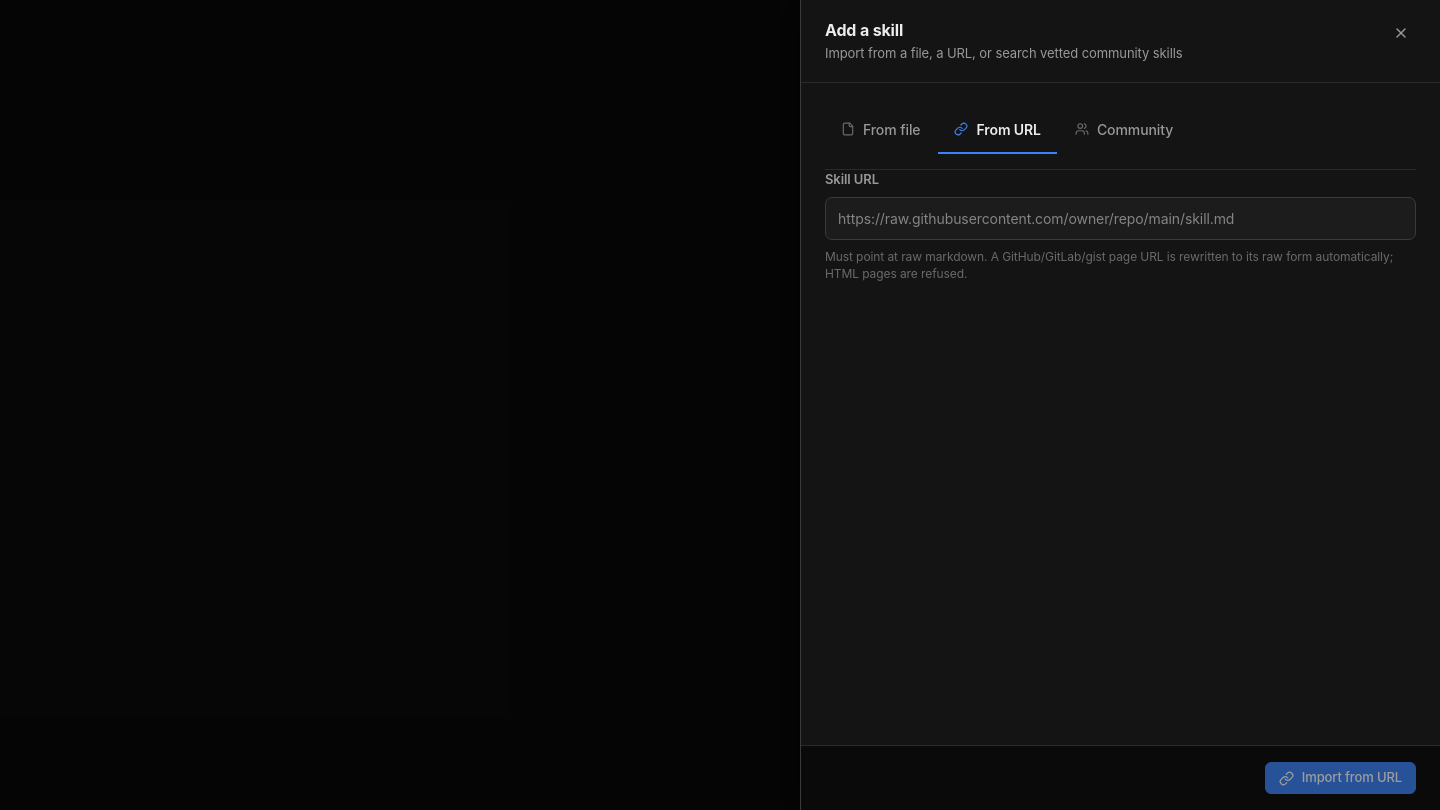
Test: AddSkillDrawer (smoke) › shows the advisory risk panel when the preview carries warnings
Type "https://example.com/skills/security.md" into the field with placeholder "https://raw.githubusercontent.com/owner/repo/main/skill.md".
click(1120, 218); type("https://example.com/skills/security.md")  # box x1=838 y1=208 x2=1403 y2=229
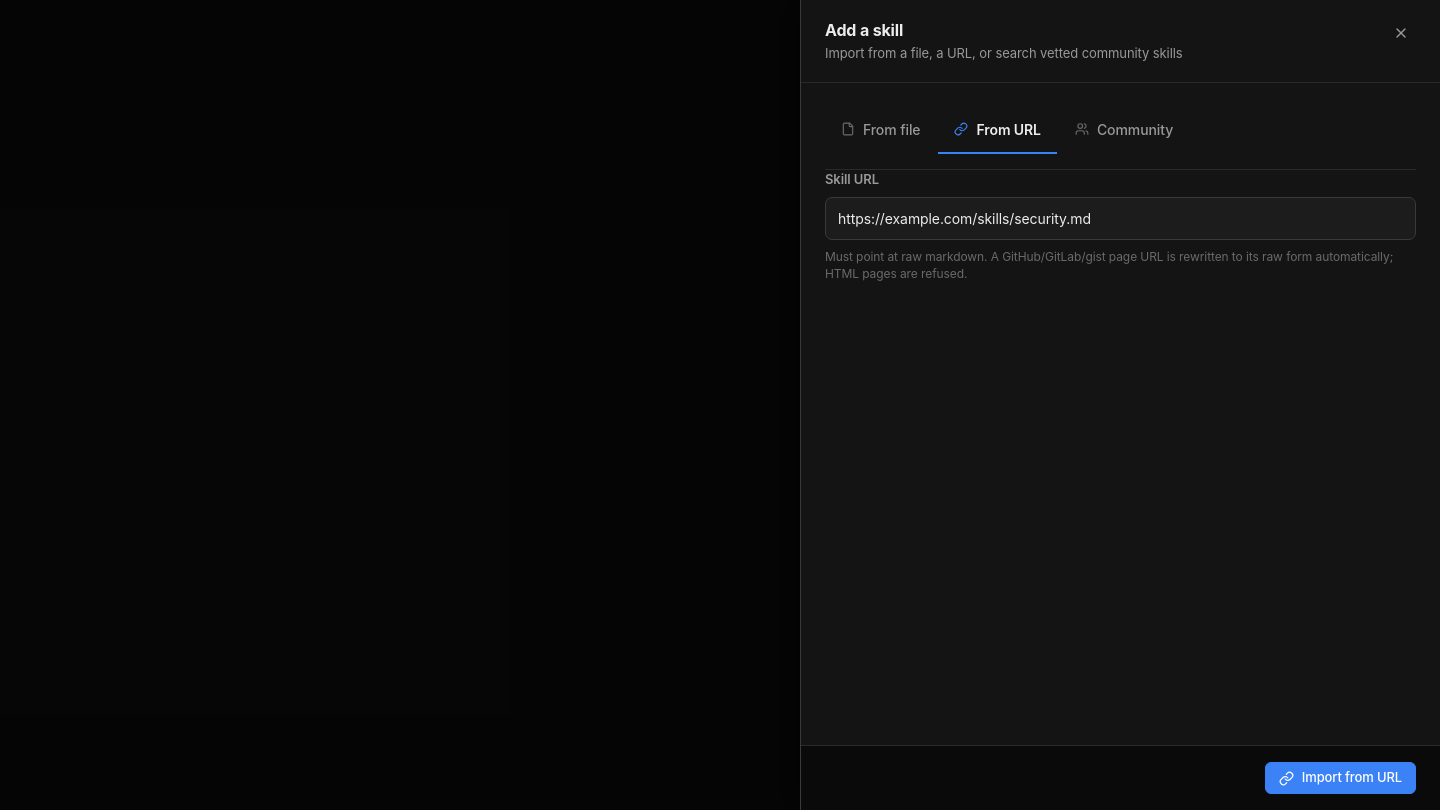
Click the button "Import from URL".
click(1340, 778)  # box x1=1265 y1=762 x2=1416 y2=794
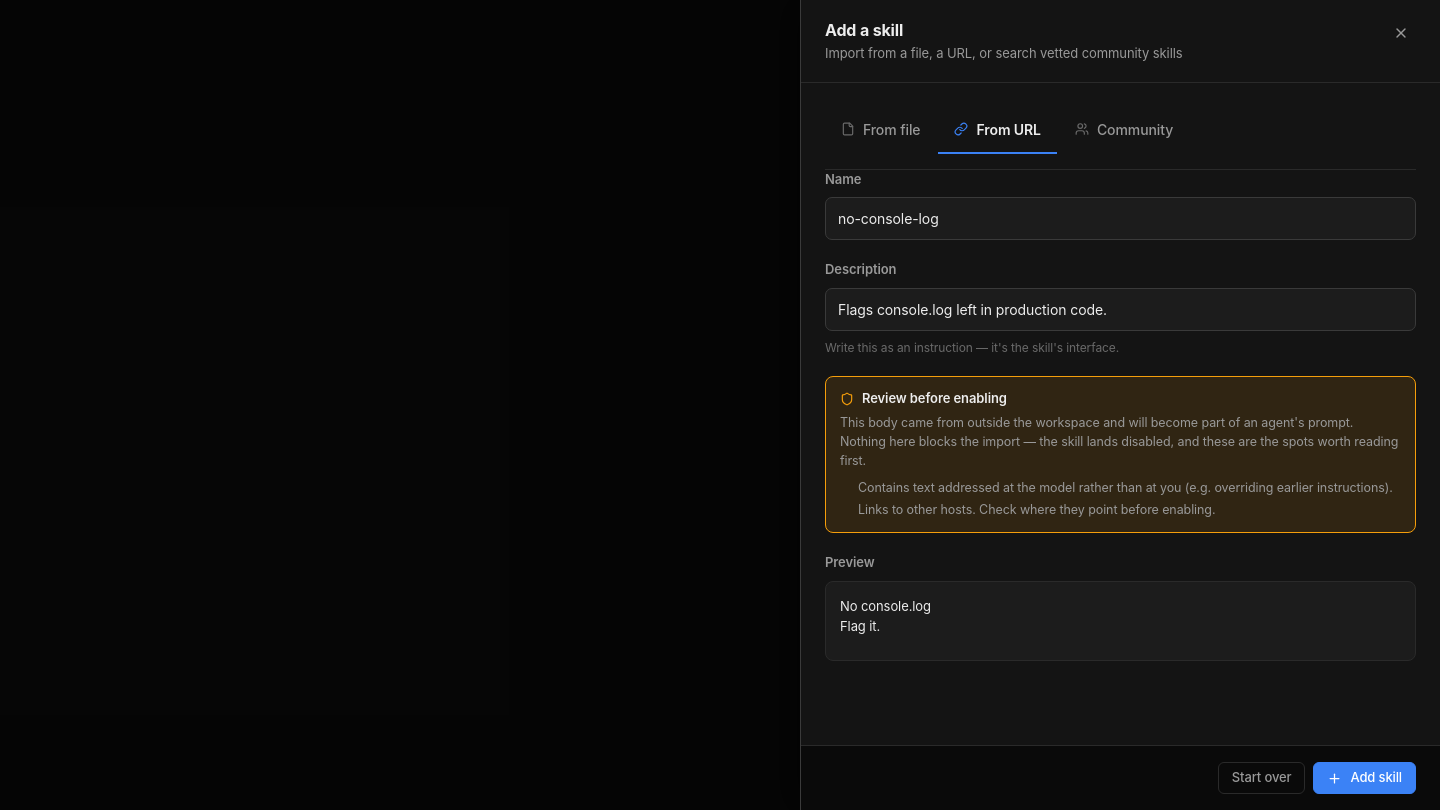
Now the text "Review before enabling" is shown, box x1=862 y1=389 x2=1007 y2=408
Now the list item "Contains text addressed at the model rather than at you (e.g. overriding earlier instructions)." is shown, box x1=858 y1=480 x2=1393 y2=495
Now the list item "Links to other hosts. Check where they point before enabling." is shown, box x1=858 y1=502 x2=1215 y2=517
